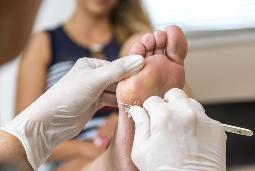scalpel: (122, 104, 254, 136)
